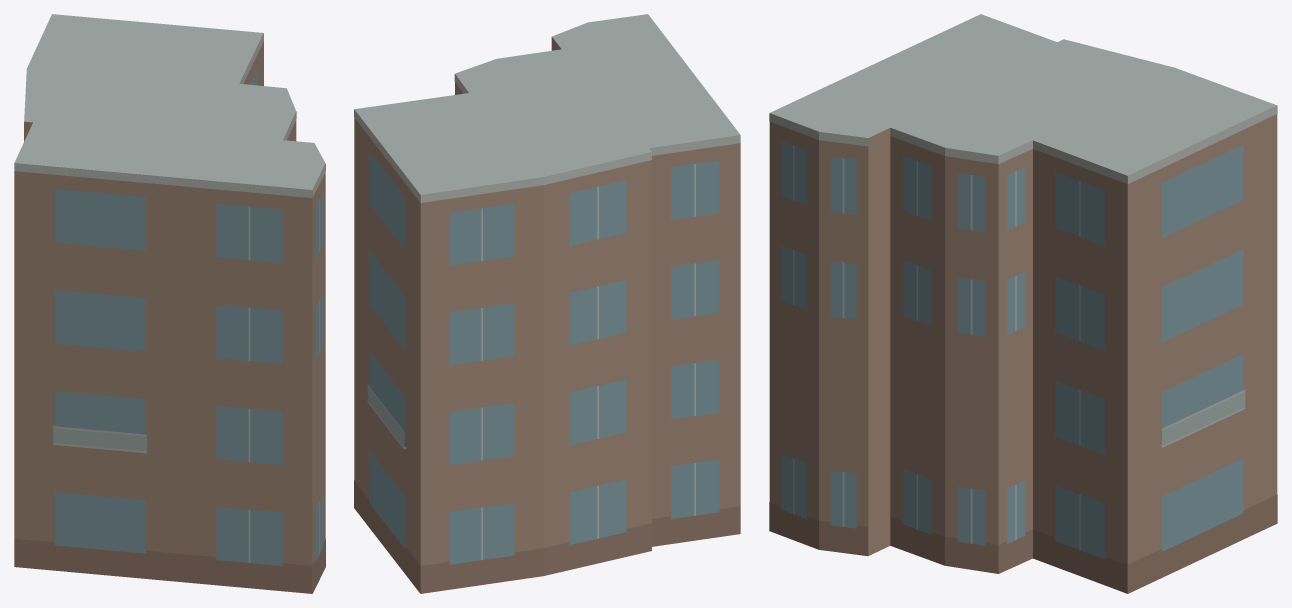
The model's file is survey-upis-32709860.glb.
3 views of the same model, side by side, from view 1: azimuth 30°, elevation 25°; view 2: azimuth 150°, elevation 25°; view 3: azimuth 270°, elevation 25° (orthographic). The views are drawn at different scales.
Visible parts, largest first — view 1: survey-upis-32709860.tmp; view 2: survey-upis-32709860.tmp; view 3: survey-upis-32709860.tmp.
Part boxes in pixels (<box>): survey-upis-32709860.tmp: <box>14,14,325,593</box>; survey-upis-32709860.tmp: <box>354,14,740,593</box>; survey-upis-32709860.tmp: <box>769,14,1277,593</box>.
Bounding box in the file's own units: 10.14 × 12.2 × 13.45.
